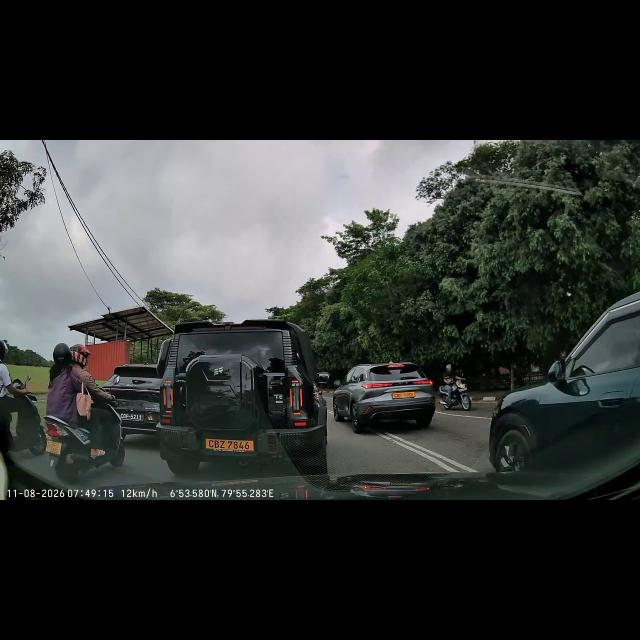car: (166, 325, 312, 465), (541, 311, 639, 475), (347, 365, 435, 425), (120, 367, 162, 431)
double_solid_line: (380, 437, 480, 478)
helmet: (52, 346, 68, 368), (70, 346, 90, 362), (4, 342, 10, 362), (446, 362, 454, 370)
motorcycle: (59, 401, 119, 465), (0, 378, 48, 450), (440, 382, 470, 410)
number_plate: (206, 438, 256, 456), (391, 390, 417, 402), (46, 441, 64, 454)
person: (0, 343, 22, 432), (53, 359, 79, 423), (79, 360, 103, 422), (447, 362, 459, 398)
